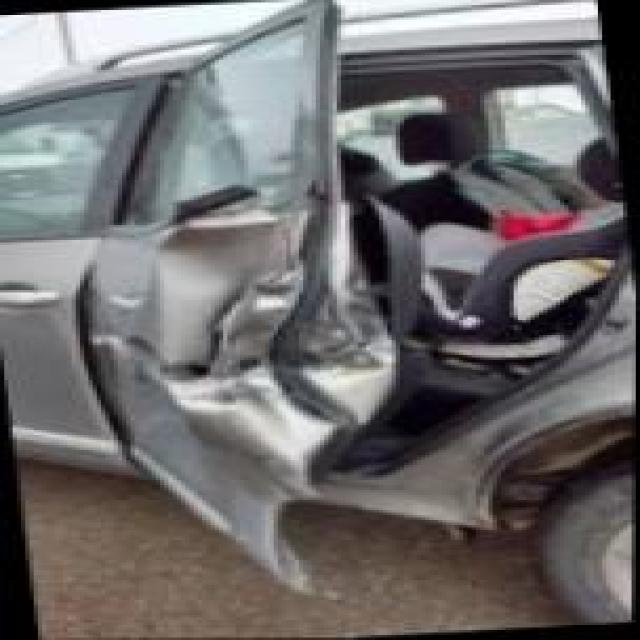Door: (75, 0, 404, 584)
